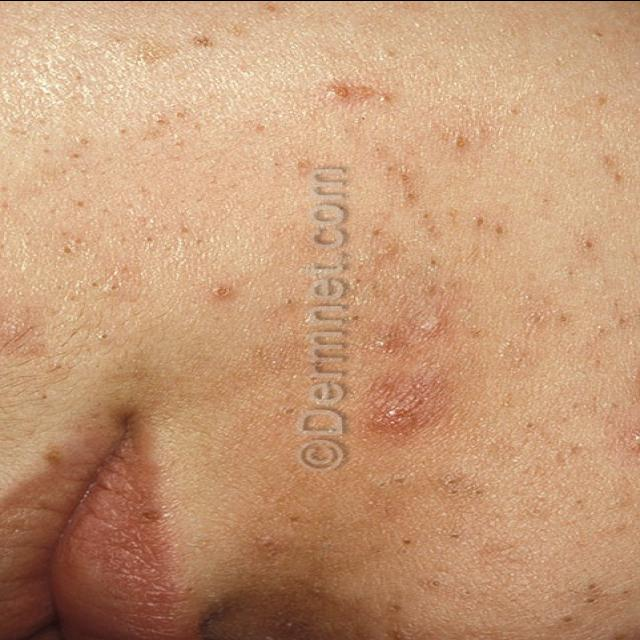Acne: (362, 378, 444, 433), (408, 307, 451, 339), (360, 329, 404, 357), (251, 529, 289, 557), (318, 80, 354, 102), (444, 126, 472, 152), (618, 422, 640, 455), (201, 281, 237, 301), (372, 236, 402, 260), (372, 89, 397, 108)
